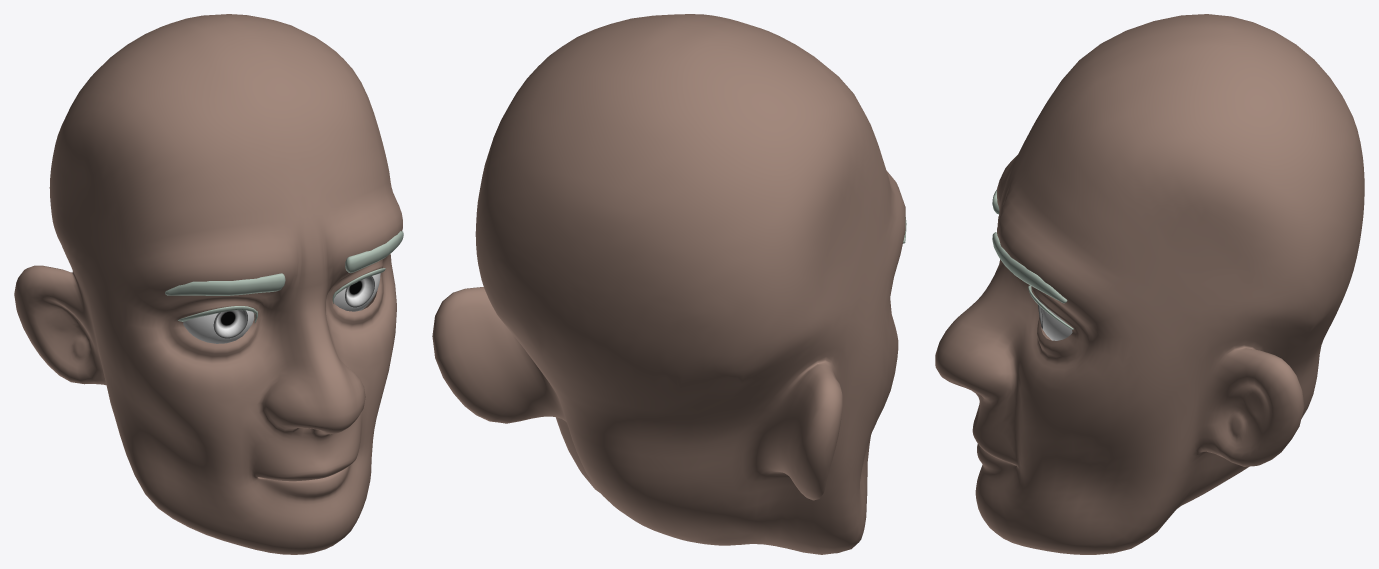
3 renders of one model, left to right at view 1: azimuth 30°, elevation 25°; view 2: azimuth 150°, elevation 25°; view 3: azimuth 270°, elevation 25°, orthographic. The views are drawn at different scales.
Parts seen in each view (by area): view 1: skin, eyes, brows, lashes; view 2: skin; view 3: skin, brows, eyes.
Part boxes in pixels (x1,y1,x2,y2): skin: [14, 14, 402, 554]; eyes: [183, 273, 380, 343]; brows: [165, 231, 403, 295]; lashes: [178, 268, 385, 322]; skin: [432, 14, 905, 554]; skin: [935, 14, 1364, 554]; brows: [992, 190, 1067, 303]; eyes: [1037, 298, 1072, 340].
Size of the model in its own units: 1.51 by 2 by 1.56.
Materials: 9 (1 with a texture image).
